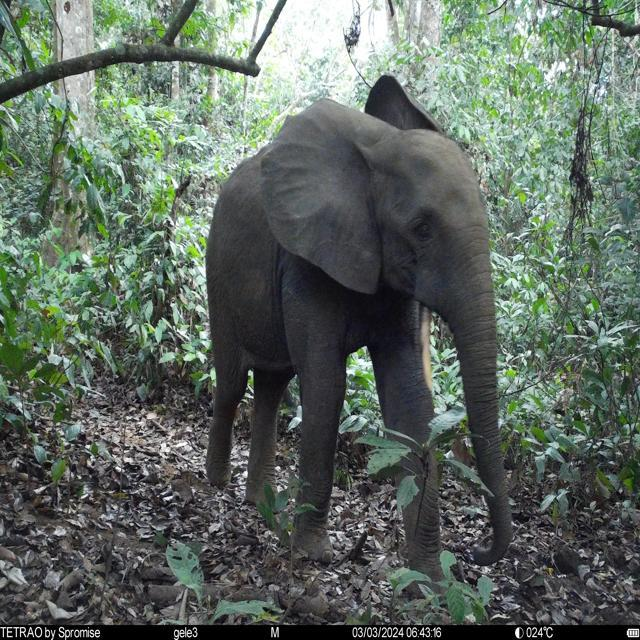ear: (260, 97, 403, 297), (365, 76, 447, 136)
elephant: (204, 75, 512, 600)
tusk: (416, 302, 436, 393)
